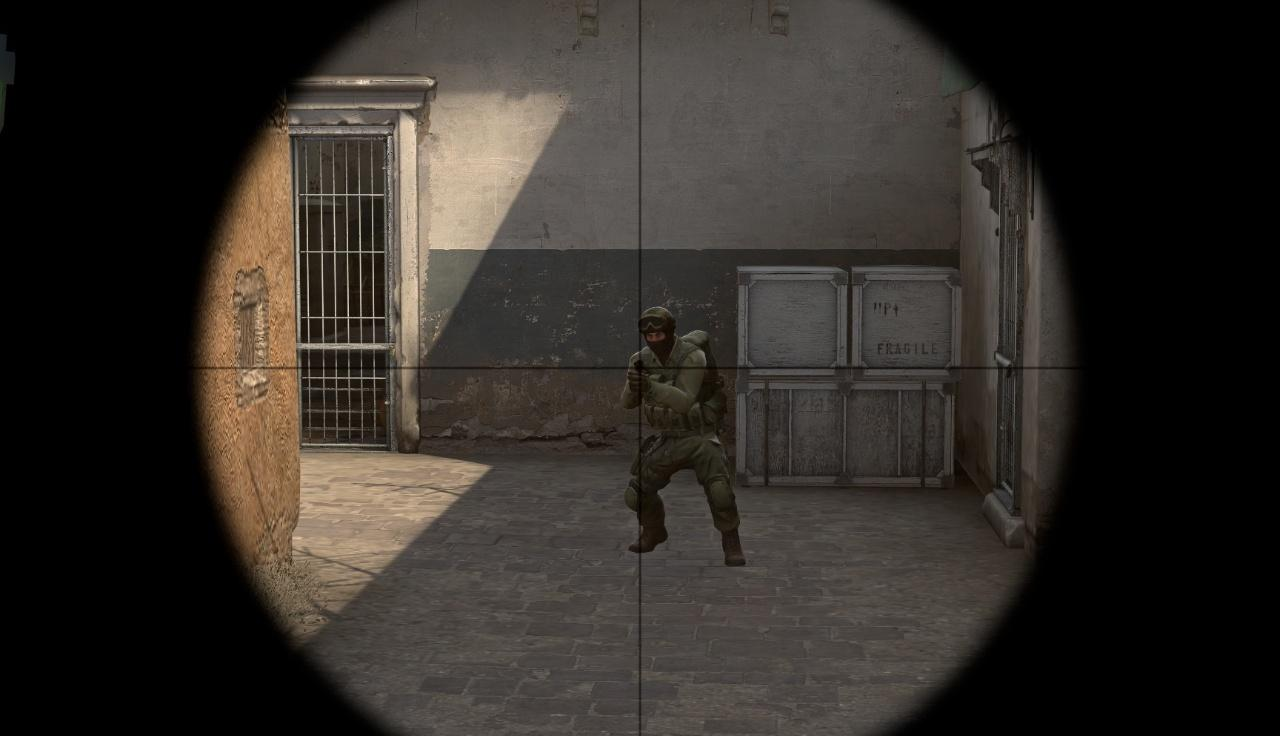ct: (627, 307, 733, 564)
cthead: (641, 307, 673, 352)
